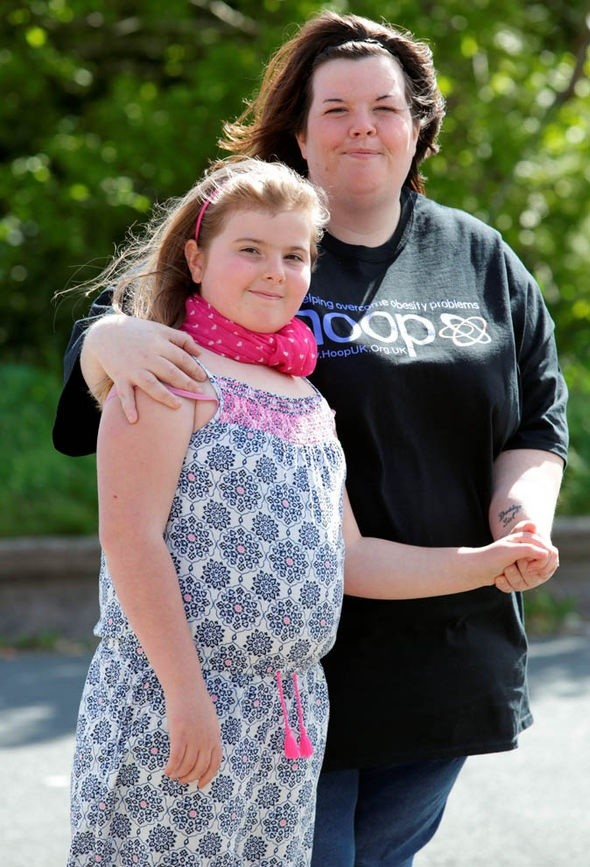face_no_mask: (291, 29, 426, 209), (184, 168, 315, 334)
